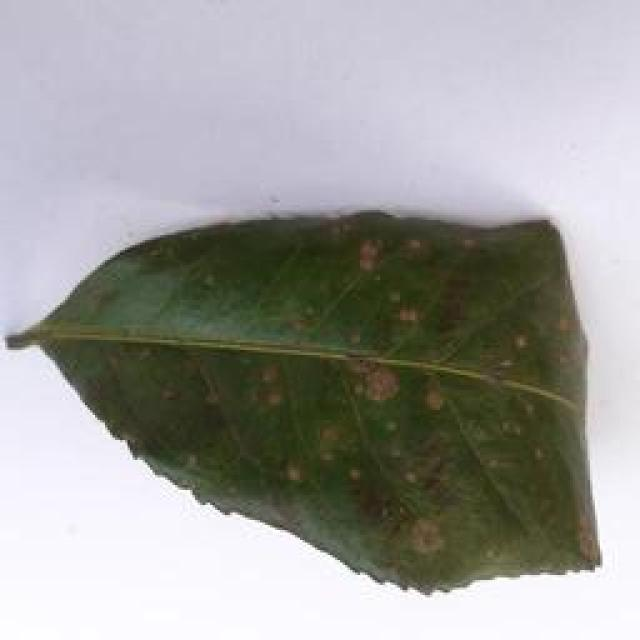Algal Leaf Spot: (3, 207, 610, 603)
